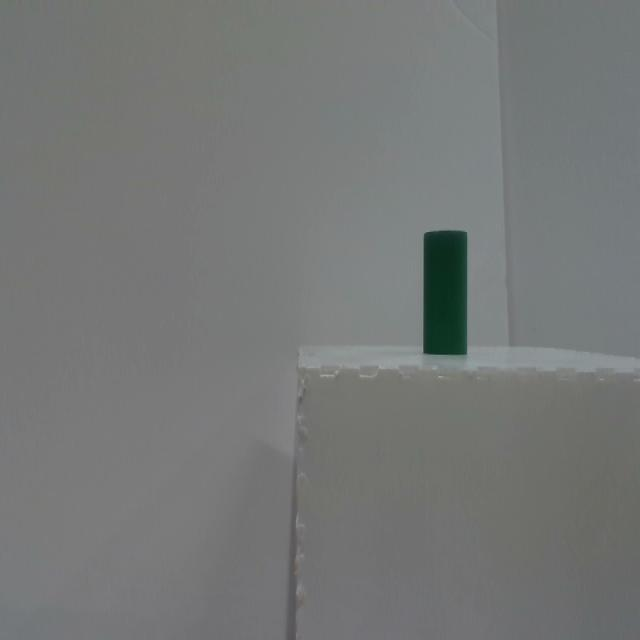green_cylinder: (424, 230, 467, 355)
